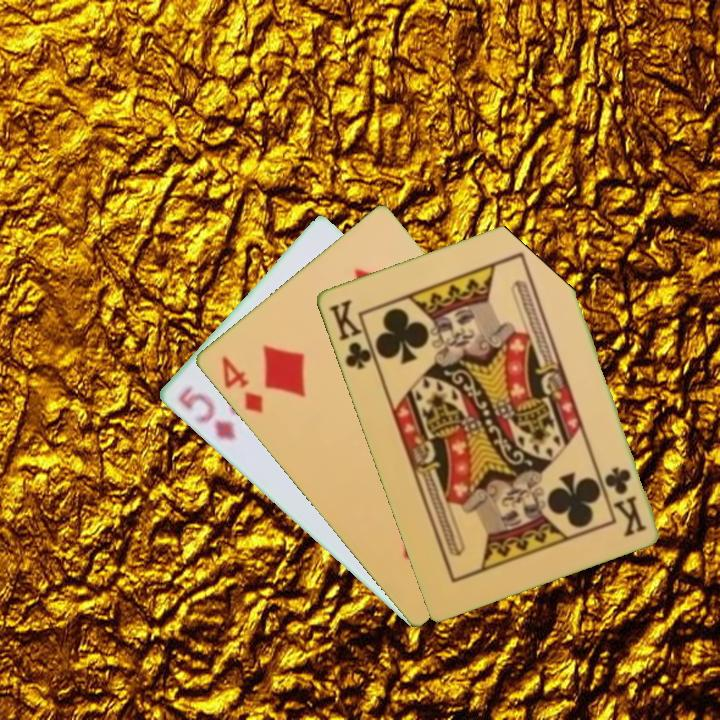4d: (217, 352, 266, 417)
5d: (174, 381, 239, 444)
Kc: (324, 296, 379, 372), (601, 462, 649, 540)
